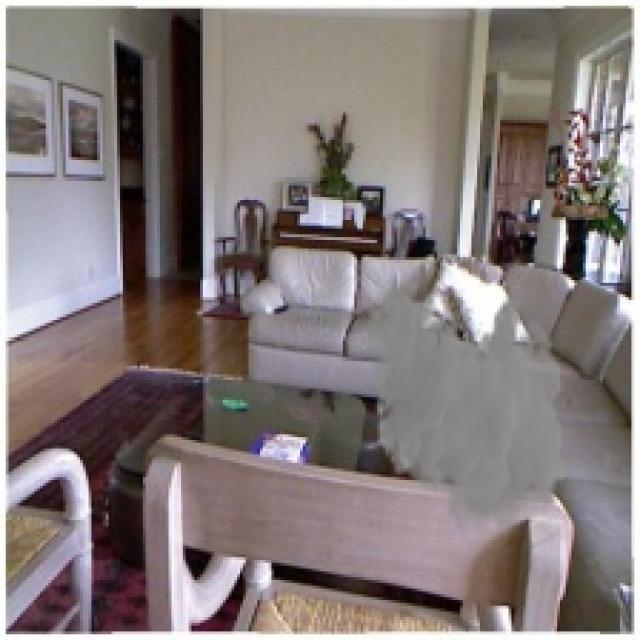Smoke: (366, 277, 568, 549)
